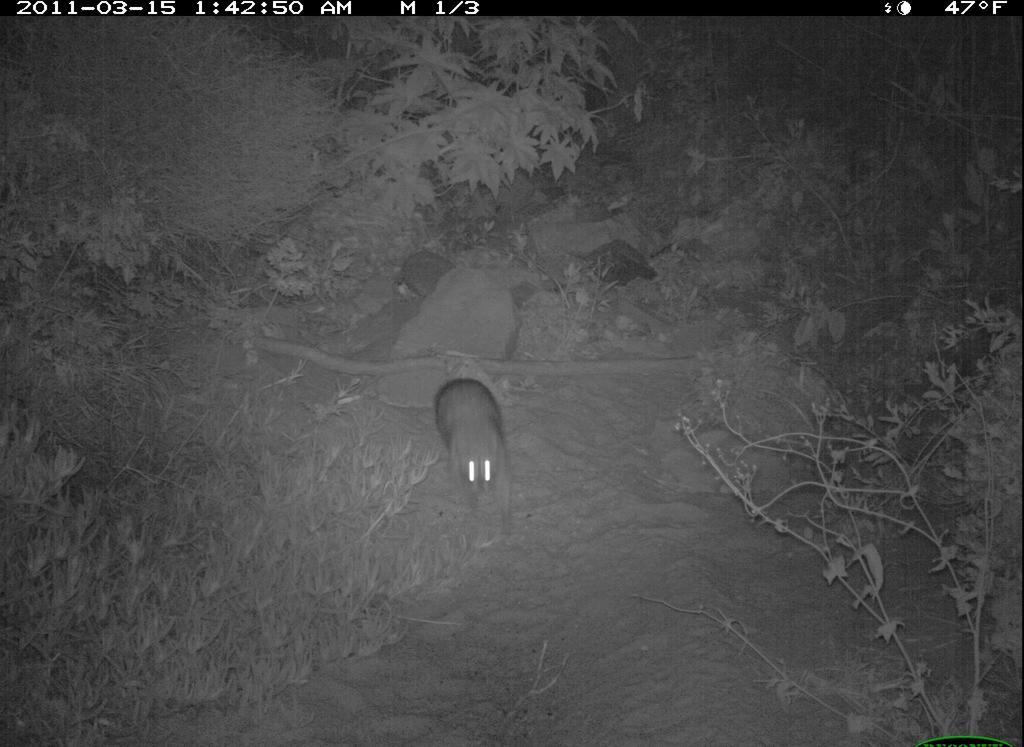raccoon: (424, 360, 520, 530)
